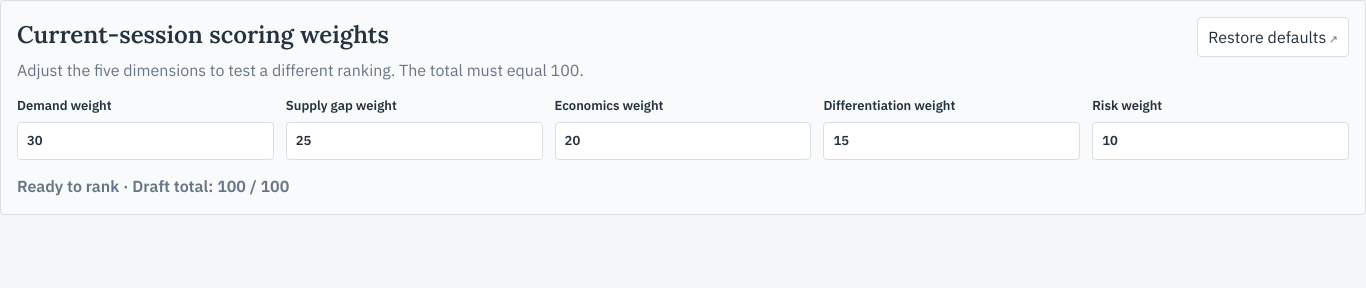
WeightEditor › restores defaults after a custom valid weight replacement
This screenshot has width=1366, height=288.
Replace the text in the field labelled "Demand weight" with "40" at {"x": 145, "y": 140}, box [17,122,274,160]
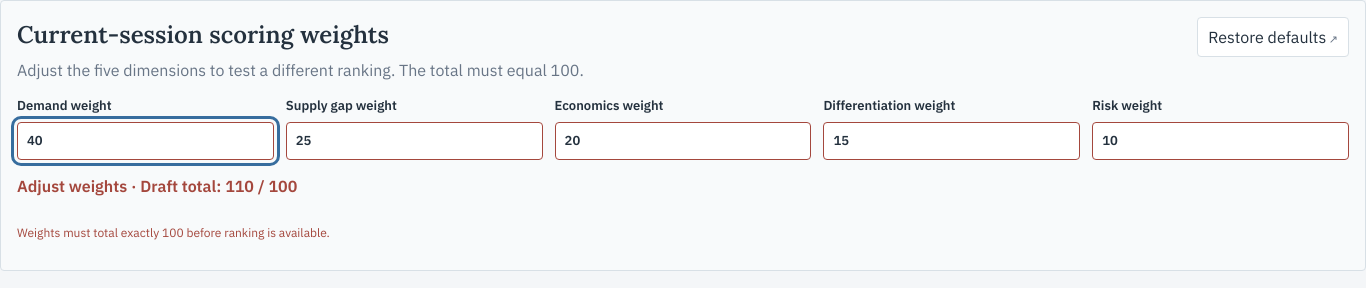
Replace the text in the field labelled "Supply gap weight" with "15" at {"x": 414, "y": 140}, box [286,122,543,160]
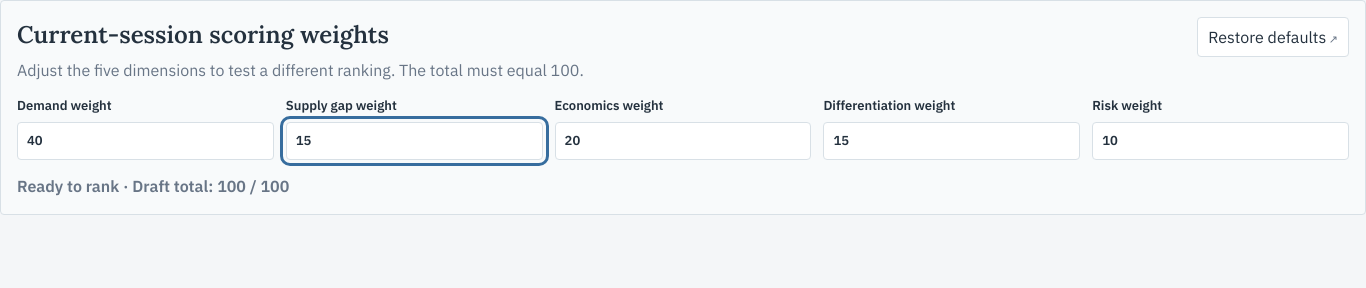
Click the button "Restore defaults" at {"x": 1273, "y": 37}, box [1197,17,1349,57]
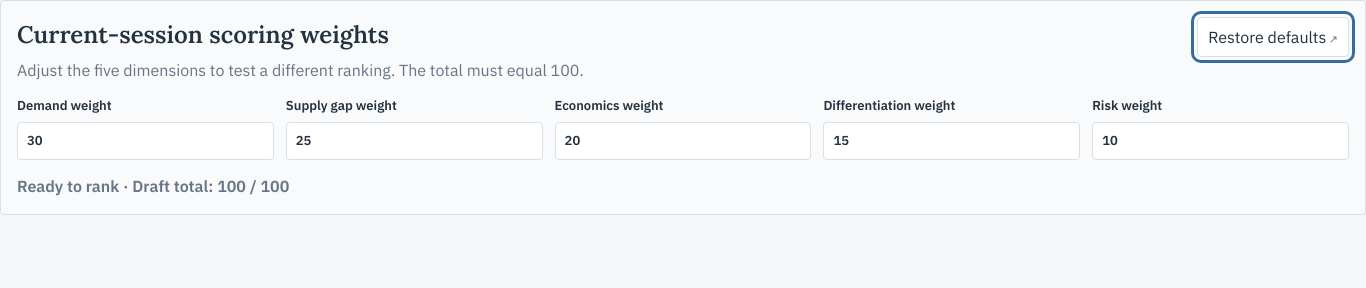
Now the field labelled "Demand weight" holds "30", box [17,122,274,160]
Now the field labelled "Supply gap weight" holds "25", box [286,122,543,160]
